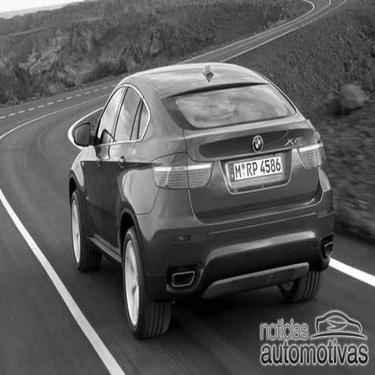car: (62, 58, 339, 342)
